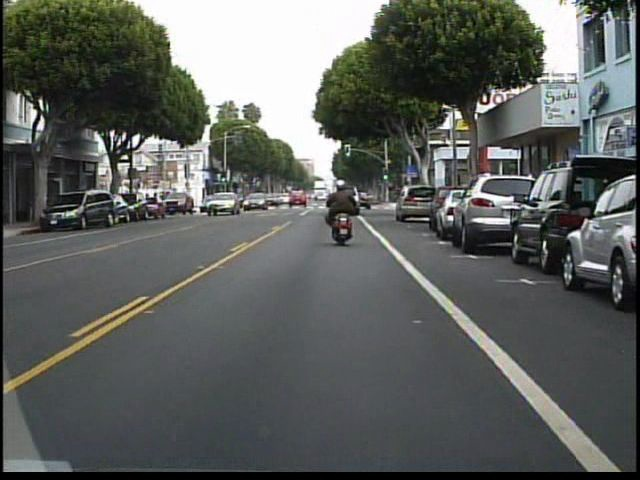person: (324, 175, 363, 245)
